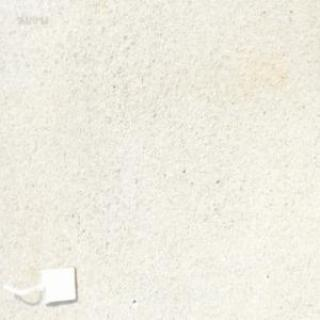LuggageTagtrack_idkeyframe: (12, 260, 77, 304)
